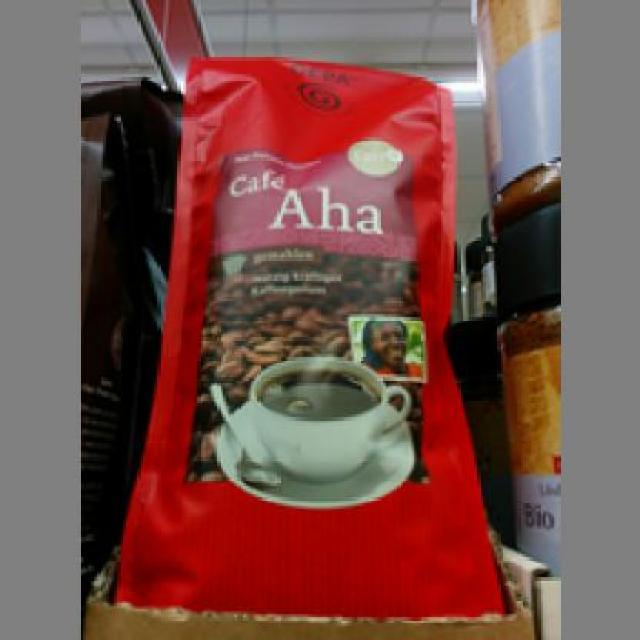Coffee: (106, 52, 514, 618)
